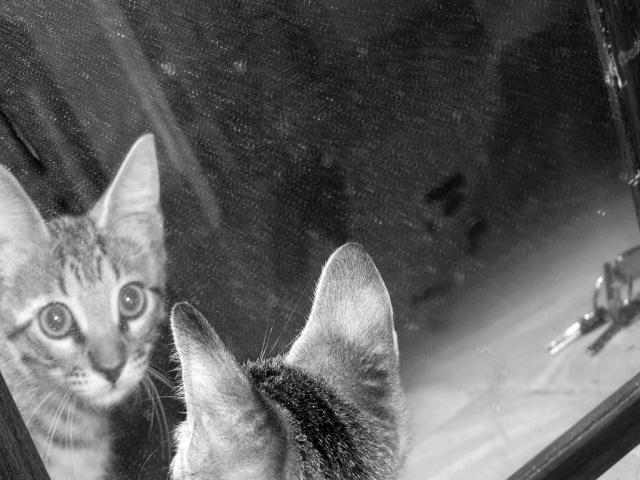Cat: (138, 238, 415, 480), (0, 130, 181, 478)
